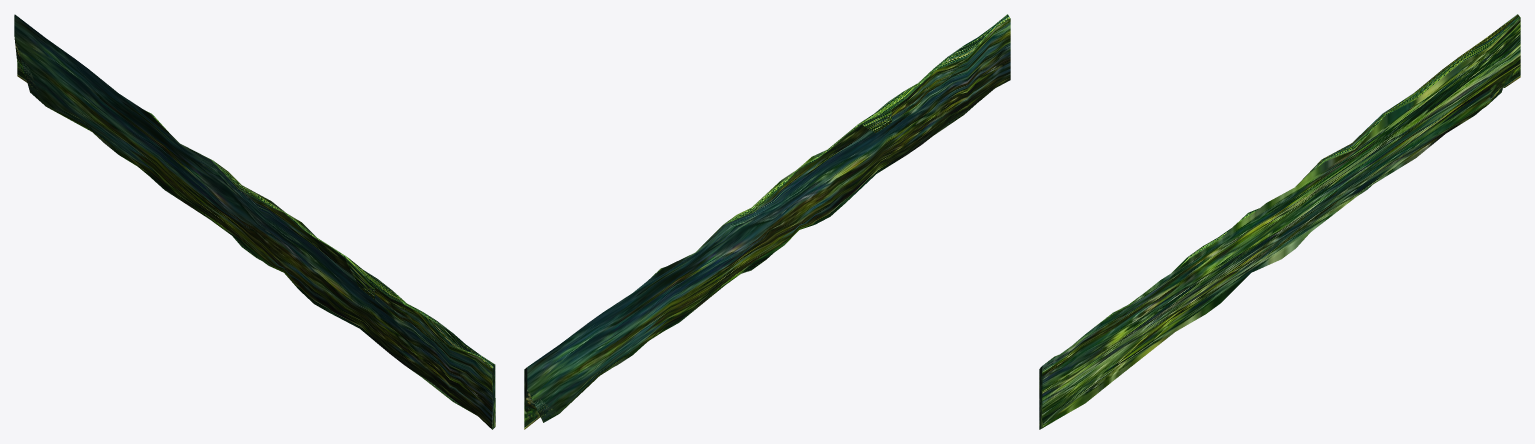
The picture shows the model from 3 angles, left to right: view 1: azimuth 30°, elevation 25°; view 2: azimuth 150°, elevation 25°; view 3: azimuth 330°, elevation 25°; orthographic projection.
Visible parts, largest first — view 1: algae_cube_Cube; view 2: algae_cube_Cube; view 3: algae_cube_Cube.
Boxes of the visible parts, left/top/right/bottom form: algae_cube_Cube: left=14, top=14, right=495, bottom=429; algae_cube_Cube: left=524, top=14, right=1010, bottom=429; algae_cube_Cube: left=1039, top=14, right=1520, bottom=429.
Bounding box in the file's own units: 0.00897 × 0.1768 × 2.17.
